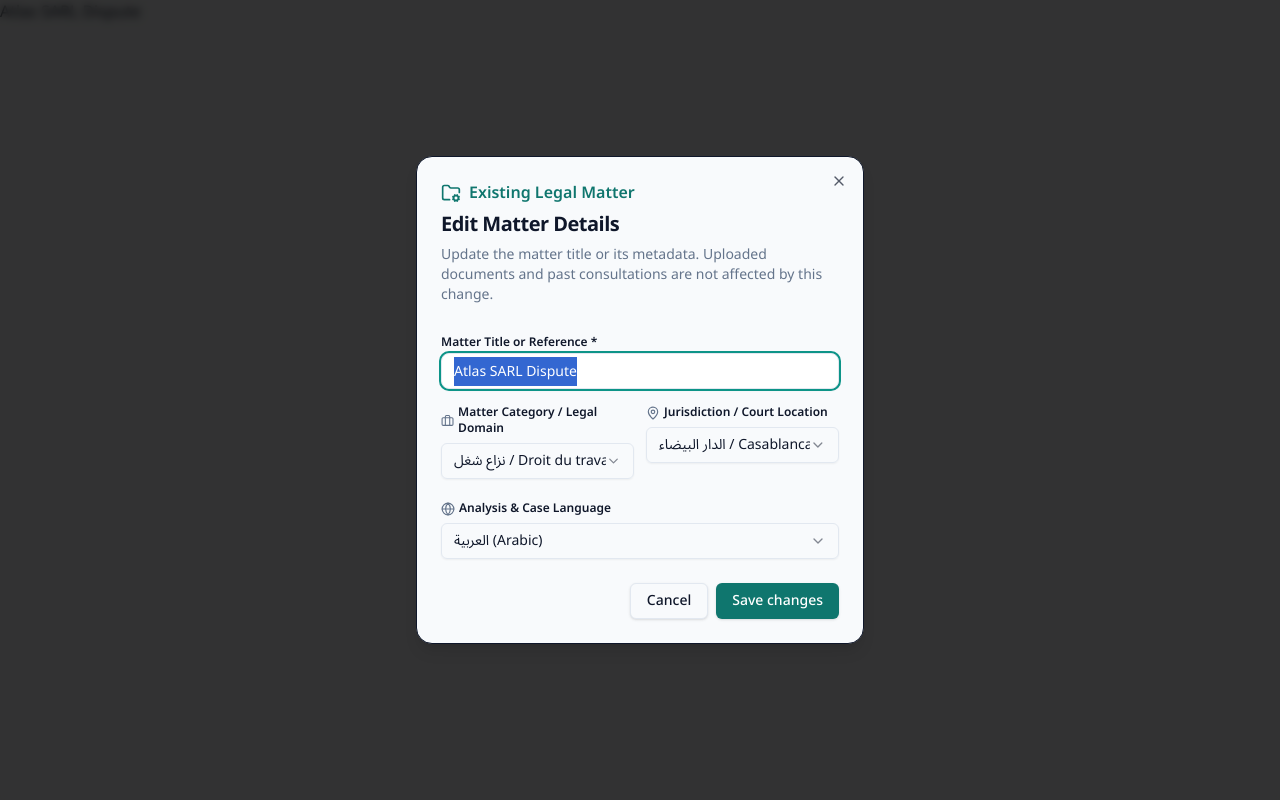
Test: EditMatterModal › surfaces the error and keeps the dialog open when the patch fails
Replace the text in the field showing "Atlas SARL Dispute" with "Duplicate": (640, 371) [441, 353, 839, 389]
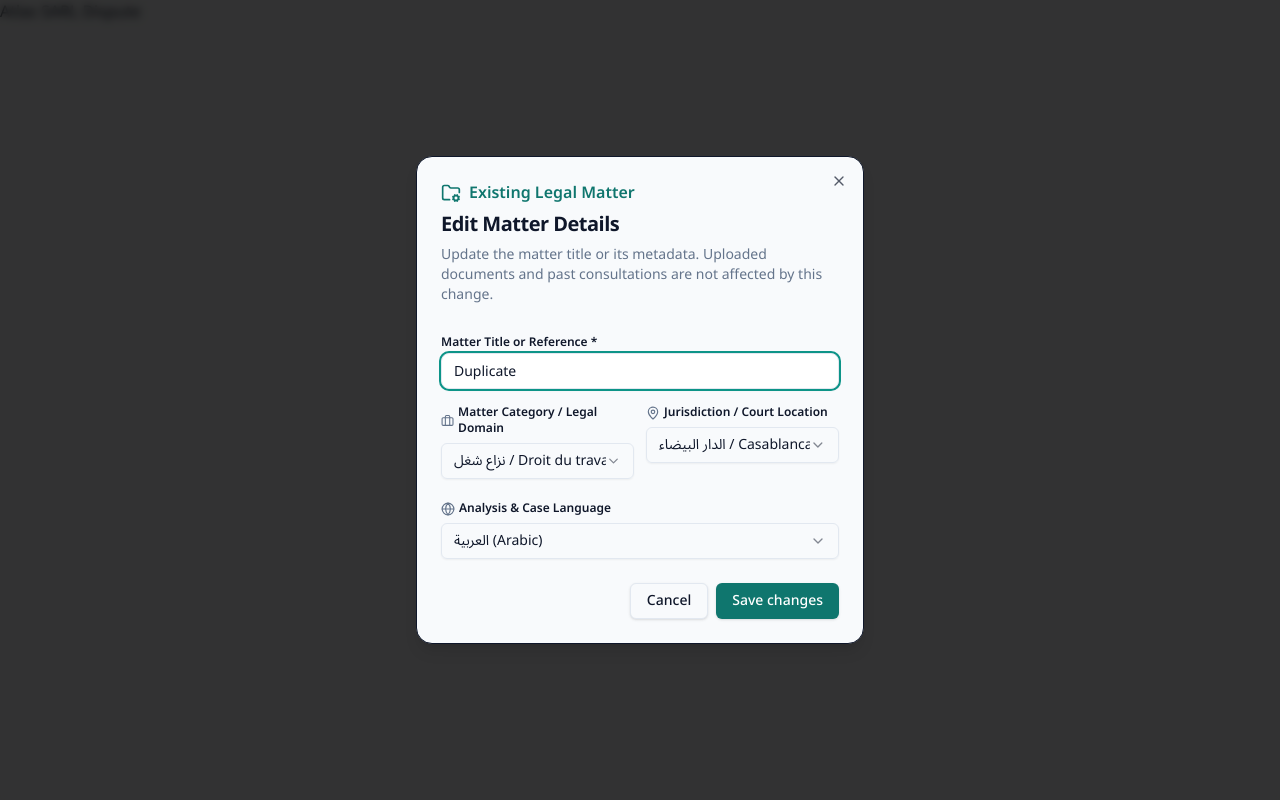
Submit the form, box [441, 321, 839, 619]
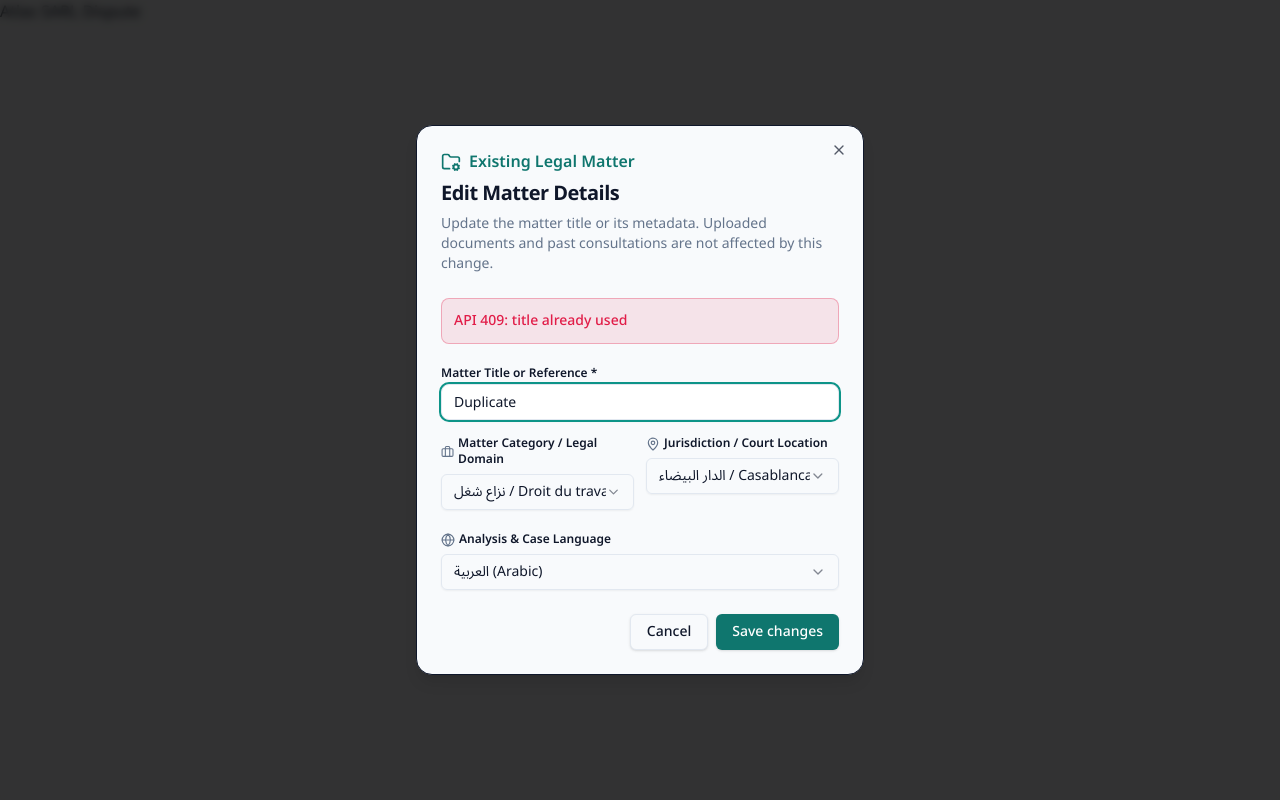
Check: the heading "Edit Matter Details" is shown, box [441, 173, 619, 215]
Check: the message shows "409", box [454, 306, 627, 335]
